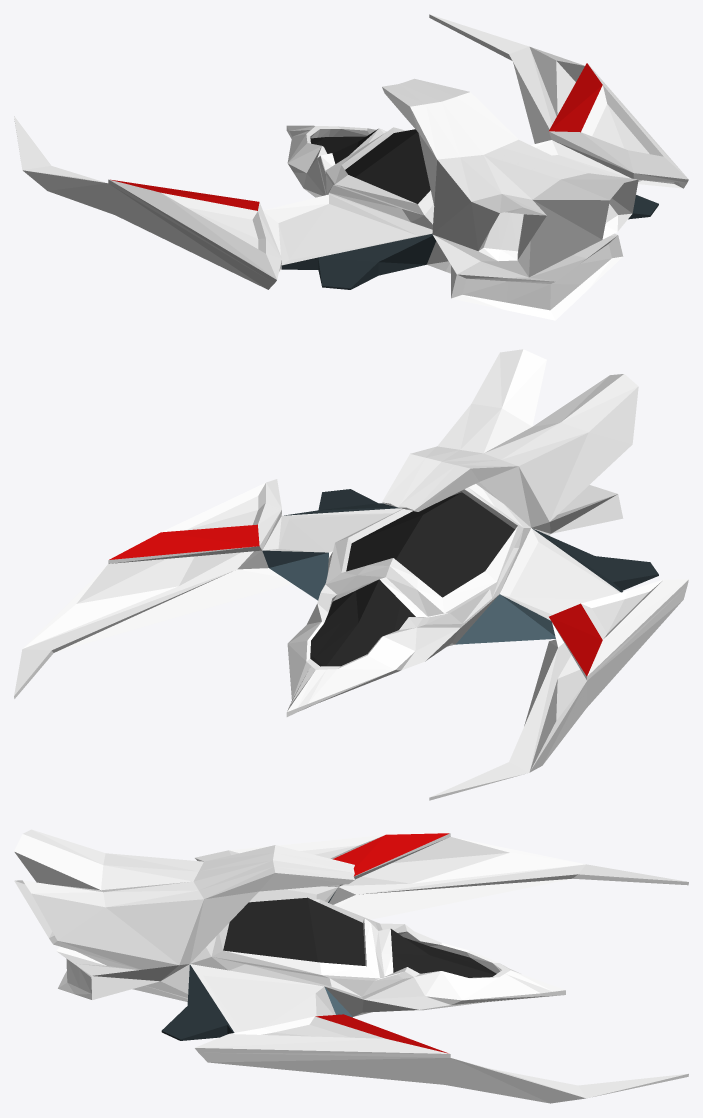
File: spaceship.obj
The picture shows the model from 3 angles, top to bottom: view 1: azimuth 30°, elevation 25°; view 2: azimuth 150°, elevation 25°; view 3: azimuth 270°, elevation 25°; orthographic projection. The views are drawn at different scales.
Visible parts, largest first — view 1: Cube; view 2: Cube; view 3: Cube.
Part boxes in pixels (<box>): Cube: <box>14,14,688,320</box>; Cube: <box>14,349,688,800</box>; Cube: <box>14,829,688,1103</box>.
Bounding box in the file's own units: 2.03 × 0.6267 × 2.47.
